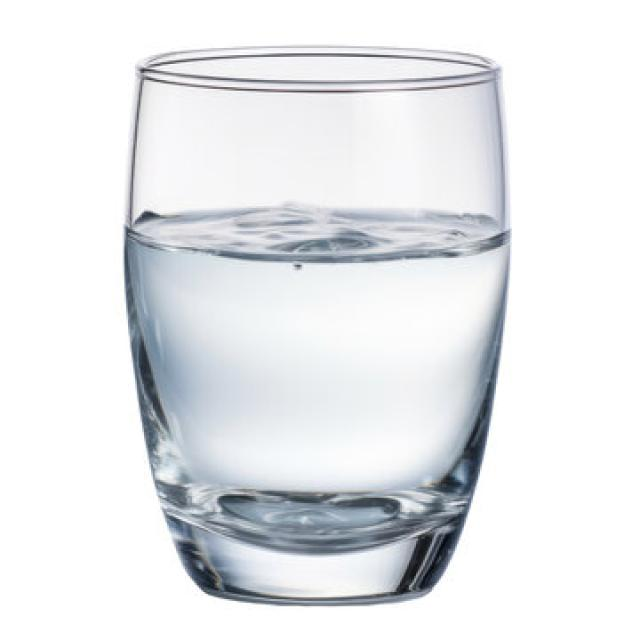Cup: (123, 36, 518, 610)
